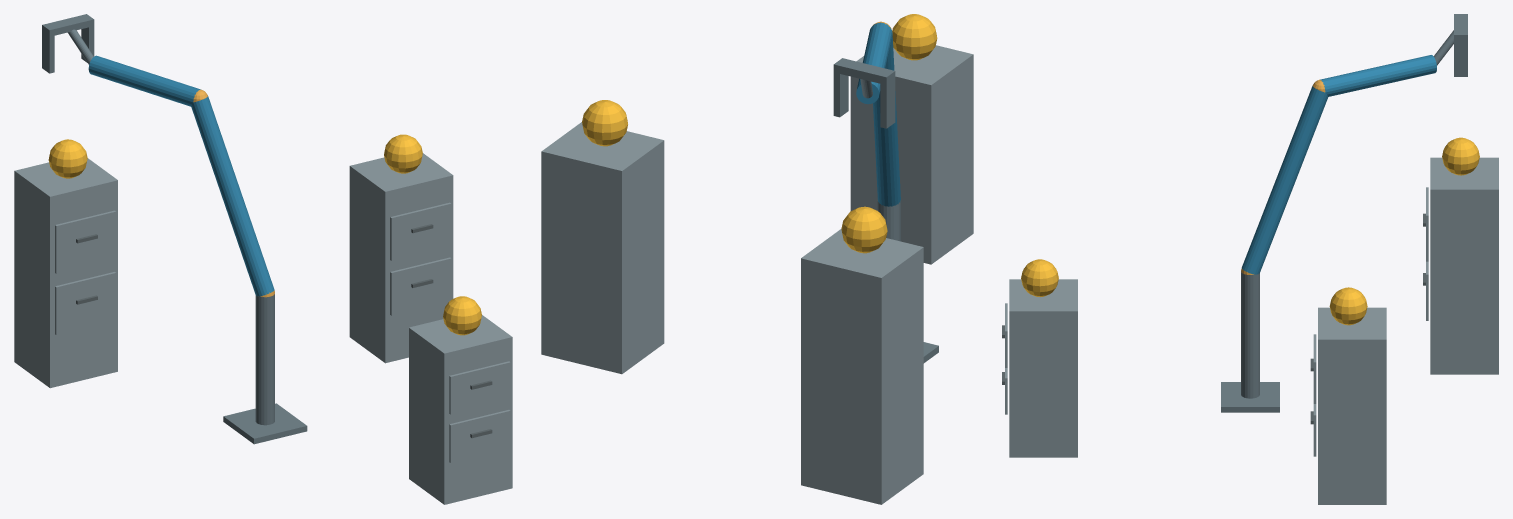
3 views of the same model, side by side, from view 1: azimuth 30°, elevation 25°; view 2: azimuth 150°, elevation 25°; view 3: azimuth 270°, elevation 25° (orthographic). The views are drawn at different scales.
Parts seen in each view (by area): view 1: cabinet_3 body, cabinet_2 body, cabinet_1 body, moving link 1, cabinet_3 drawer front.001, cabinet_3 drawer front, cabinet_2 drawer front.001, cabinet_2 drawer front, fixed post, cabinet_1 drawer front.001, cabinet_1 drawer front, moving link 2 (+5 smaller); view 2: cabinet_3 body, cabinet_2 body, cabinet_1 body, moving link 1, ball ball_3, released ball_2, released ball_1, moving link 2, gripper bridge, gripper finger -1, gripper finger 1, fixed post; view 3: cabinet_3 body, cabinet_2 body, cabinet_1 body, moving link 1, fixed post, moving link 2, pedestal, ball ball_3, released ball_2, released ball_1.
Part boxes in pixels (x1,y1,x2,y2): cabinet_3 body: (14,158,117,388); cabinet_2 body: (349,153,453,363); cabinet_1 body: (409,315,512,504); moving link 1: (191,96,274,296); cabinet_3 drawer front.001: (55,210,116,273); cabinet_3 drawer front: (55,272,116,335); cabinet_2 drawer front.001: (390,202,451,260); cabinet_2 drawer front: (390,257,451,315); fixed post: (255,294,274,425); cabinet_1 drawer front.001: (449,361,510,414); cabinet_1 drawer front: (449,410,510,462); moving link 2: (88,55,200,106); cabinet_3 body: (801,229,923,504); cabinet_2 body: (541,122,664,374); cabinet_1 body: (850,45,973,264); moving link 1: (873,34,900,206); ball ball_3: (841,206,887,253); released ball_2: (582,100,627,146); released ball_1: (892,14,937,60); moving link 2: (856,22,892,104); gripper bridge: (833,58,895,85); gripper finger -1: (880,79,895,128); gripper finger 1: (833,72,848,117); fixed post: (877,200,900,241); cabinet_3 body: (1430,157,1498,374); cabinet_2 body: (1318,307,1386,504); cabinet_1 body: (1009,279,1077,457); moving link 1: (1242,86,1328,274); fixed post: (1241,271,1259,398); moving link 2: (1320,55,1436,96); pedestal: (1221,382,1279,412); ball ball_3: (1442,137,1479,175); released ball_2: (1329,287,1367,325); released ball_1: (1021,259,1058,296).
Size of the model in its own units: 1.62 by 1.55 by 2.1.
